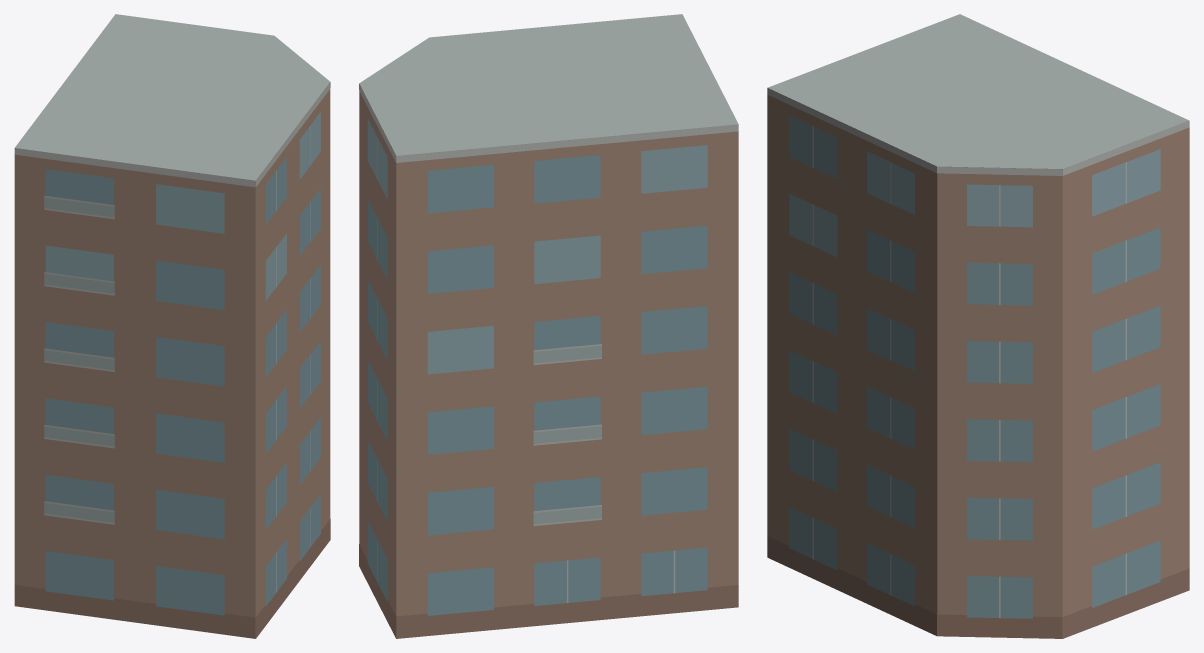
Rendered from survey-upis-32856436.glb.
The picture shows the model from 3 angles, left to right: view 1: azimuth 30°, elevation 25°; view 2: azimuth 150°, elevation 25°; view 3: azimuth 270°, elevation 25°; orthographic projection. The views are drawn at different scales.
Parts seen in each view (by area): view 1: survey-upis-32856436.tmp; view 2: survey-upis-32856436.tmp; view 3: survey-upis-32856436.tmp.
Part boxes in pixels (x1,y1,x2,y2): survey-upis-32856436.tmp: [14, 14, 330, 638]; survey-upis-32856436.tmp: [359, 14, 738, 638]; survey-upis-32856436.tmp: [767, 14, 1189, 638].
Bounding box in the file's own units: 11.83 × 16.7 × 13.61.
